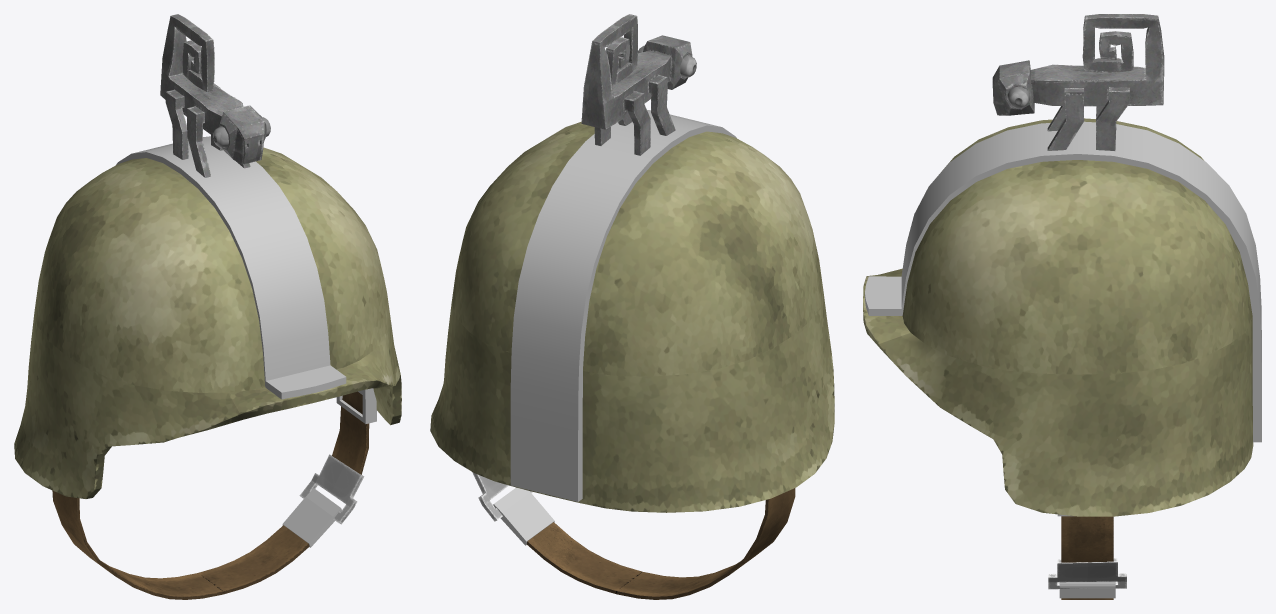
The model's file is Cameleon casca.fbx.
3 renders of one model, left to right at view 1: azimuth 30°, elevation 25°; view 2: azimuth 150°, elevation 25°; view 3: azimuth 270°, elevation 25°, orthographic. The views are drawn at different scales.
Visible parts, largest first — view 1: Cube.014, Cube.015, Plane.002, Plane.003, Plane.006, Plane.007, Plane.005; view 2: Cube.014, Cube.015, Plane.002, Plane.003, Plane.006, Plane.007; view 3: Cube.014, Cube.015, Plane.002, Plane.003, Plane.007, Plane.006.
Boxes of the visible parts, <box> form: Cube.014: <box>14,147,401,498</box>; Cube.015: <box>116,136,346,399</box>; Plane.002: <box>160,14,266,177</box>; Plane.003: <box>52,391,369,599</box>; Plane.006: <box>282,488,341,547</box>; Plane.007: <box>299,454,364,524</box>; Plane.005: <box>336,388,376,423</box>; Cube.014: <box>430,121,834,512</box>; Cube.015: <box>510,110,736,501</box>; Plane.002: <box>581,14,692,155</box>; Plane.003: <box>526,488,795,599</box>; Plane.006: <box>493,487,554,545</box>; Plane.007: <box>472,472,533,521</box>; Cube.014: <box>863,118,1253,516</box>; Cube.015: <box>865,121,1261,442</box>; Plane.002: <box>992,14,1164,150</box>; Plane.003: <box>1061,516,1113,599</box>; Plane.007: <box>1048,558,1126,589</box>; Plane.006: <box>1059,581,1115,598</box>.
Size of the model in its own units: 189 by 291 by 186.
